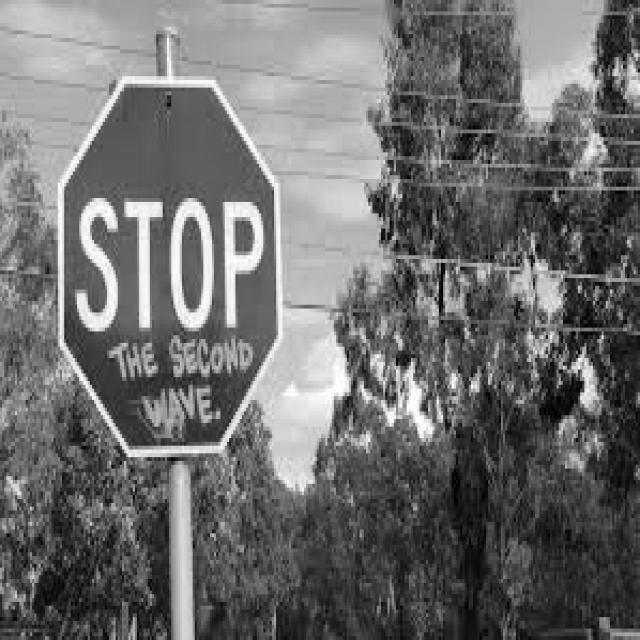stop sign: (61, 77, 280, 456)
